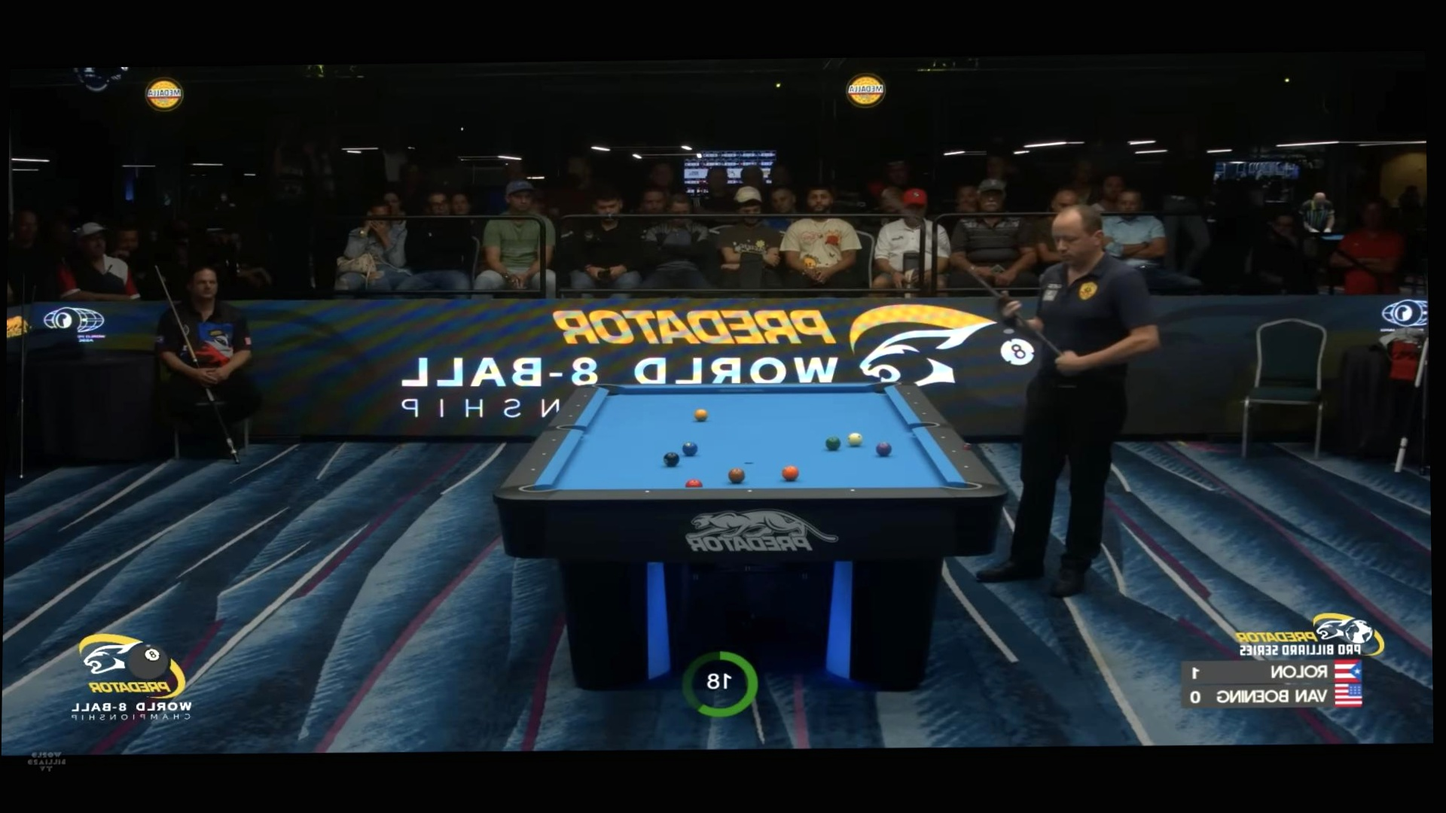Black: (541, 451, 548, 457), (550, 438, 557, 444), (575, 402, 582, 408), (568, 413, 574, 419), (582, 393, 588, 399), (963, 463, 969, 469), (914, 400, 920, 406), (747, 488, 753, 493), (644, 489, 650, 494), (530, 467, 536, 472), (951, 449, 957, 454), (940, 435, 946, 440), (921, 410, 927, 415), (906, 391, 912, 396), (811, 380, 817, 385), (850, 488, 855, 493), (745, 382, 748, 385)
Cue: (728, 468, 746, 484), (781, 466, 799, 481), (825, 436, 841, 451), (682, 442, 698, 456), (876, 442, 892, 456), (694, 409, 708, 421), (686, 478, 703, 487)
Solid: (663, 452, 680, 467)
Stripe: (848, 432, 863, 447)
